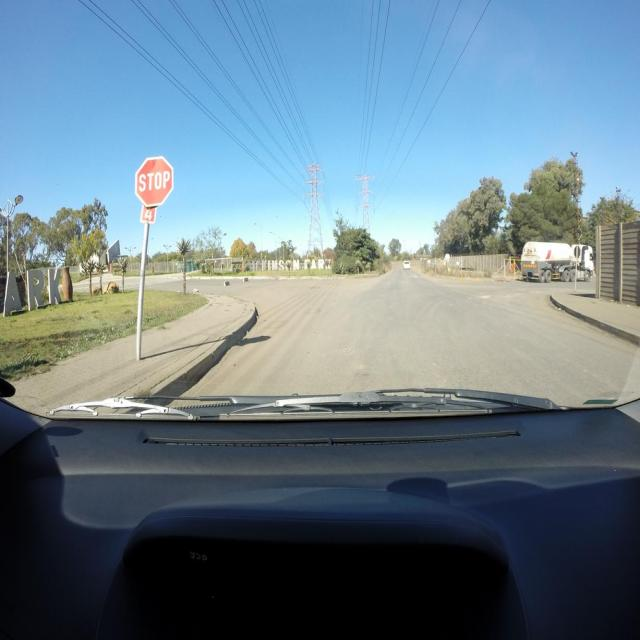Pothole: (478, 294, 491, 299), (308, 286, 323, 289)
